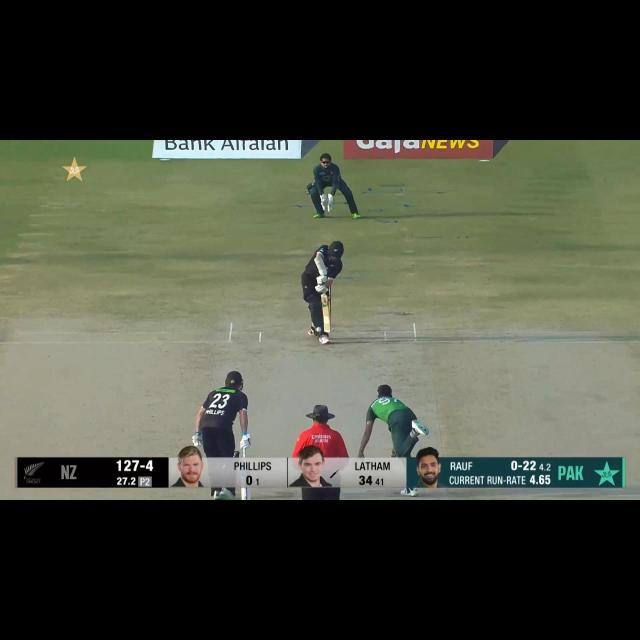bat: (319, 293, 335, 337), (240, 486, 253, 500)
toe: (323, 322, 332, 334), (240, 493, 251, 500)
